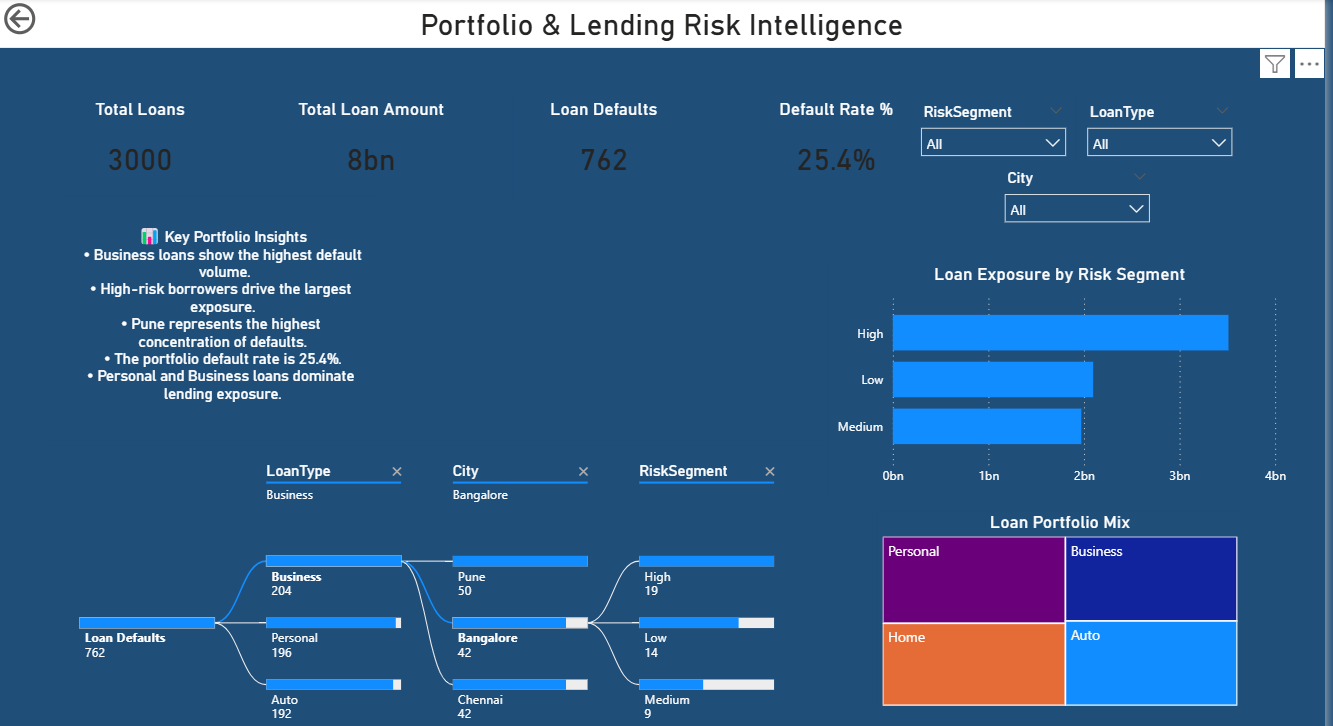

The page's visual inventory and layout, read from the dashboard file:
{"tool":"powerbi","page":{"name":"Regional Loan Exposure","canvas":[1280,720],"ordinal":3},"visuals":[{"type":"card","fields":{"Values":["Accounts.Title 3"]},"box":[0,0,1280,48],"z":0},{"type":"card","title":"Total Loans","fields":{"Values":["Loans.Total Loans"]},"box":[48,96,176,96],"z":1000},{"type":"card","title":"Total Loan Amount","fields":{"Values":["Sum(Loans.LoanAmount)"]},"box":[272,96,176,96],"z":2000},{"type":"card","title":"Loan Defaults","fields":{"Values":["Loans.Loan Defaults"]},"box":[496,96,176,96],"z":3000},{"type":"card","title":"Default Rate %","fields":{"Values":["Loans.Default Rate %"]},"box":[720,96,176,96],"z":4000},{"type":"decompositionTreeVisual","fields":{"Analyze":["Loans.Loan Defaults"],"ExplainBy":["Loans.LoanType","Customers.City","Customers.RiskSegment"]},"box":[48,432,816,272],"z":5000},{"type":"actionButton","box":[0,0,100,40],"z":6000},{"type":"treemap","title":"Loan Portfolio Mix","fields":{"Group":["Loans.LoanType"],"Values":["Sum(Loans.LoanAmount)"]},"box":[848,496,352,192],"z":7000},{"type":"clusteredBarChart","title":"Loan Exposure by Risk Segment","fields":{"Y":["Sum(Loans.LoanAmount)"],"Category":["Customers.RiskSegment"]},"box":[800,256,448,224],"z":8000},{"type":"slicer","title":"Loan Exposure by Risk Segment","fields":{"Values":["Customers.RiskSegment"]},"box":[880,96,160,64],"z":8001},{"type":"slicer","title":"Loan Exposure by Risk Segment","fields":{"Values":["Loans.LoanType"]},"box":[1040,96,160,64],"z":8002},{"type":"slicer","title":"Loan Exposure by Risk Segment","fields":{"Values":["Customers.City"]},"box":[960,160,160,64],"z":8003},{"type":"card","fields":{"Values":["Accounts.Key Insights"]},"box":[64,192,304,224],"z":8004}]}

Visuals, with their boxes on the page's 1280x720 design canvas (x1, y1, x2, y2). These are canvas units, not pixel positions in the 1333x726 screenshot, which may show the page scaled, cropped or inside an application window:
card - Accounts.Title 3: x1=0 y1=0 x2=1280 y2=48
"Total Loans" card: x1=48 y1=96 x2=224 y2=192
"Total Loan Amount" card: x1=272 y1=96 x2=448 y2=192
"Loan Defaults" card: x1=496 y1=96 x2=672 y2=192
"Default Rate %" card: x1=720 y1=96 x2=896 y2=192
decompositionTreeVisual - Loans.Loan Defaults x Loans.LoanType: x1=48 y1=432 x2=864 y2=704
actionButton: x1=0 y1=0 x2=100 y2=40
"Loan Portfolio Mix" treemap: x1=848 y1=496 x2=1200 y2=688
"Loan Exposure by Risk Segment" clusteredBarChart: x1=800 y1=256 x2=1248 y2=480
"Loan Exposure by Risk Segment" slicer: x1=880 y1=96 x2=1040 y2=160
"Loan Exposure by Risk Segment" slicer: x1=1040 y1=96 x2=1200 y2=160
"Loan Exposure by Risk Segment" slicer: x1=960 y1=160 x2=1120 y2=224
card - Accounts.Key Insights: x1=64 y1=192 x2=368 y2=416
